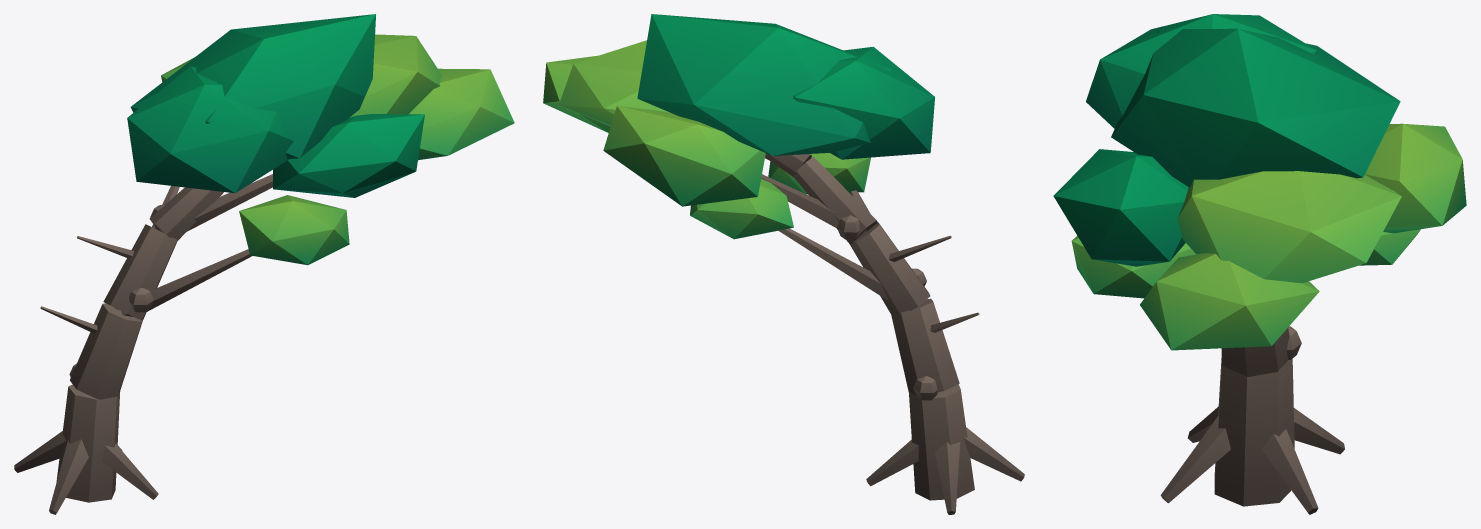
File: wind_bent_tree.glb
3 views of the same model, side by side, from view 1: azimuth 30°, elevation 25°; view 2: azimuth 150°, elevation 25°; view 3: azimuth 270°, elevation 25° (orthographic). The views are drawn at different scales.
Parts seen in each view (by area): view 1: wind_bent_tree; view 2: wind_bent_tree; view 3: wind_bent_tree.
Boxes of the visible parts, box(x1,y1,x2,y2) form: wind_bent_tree: box(14, 14, 514, 514); wind_bent_tree: box(543, 14, 1024, 514); wind_bent_tree: box(1053, 14, 1466, 514).
Bounding box in the file's own units: 5.86 × 5.08 × 3.3.
1 material, 1 textured.
